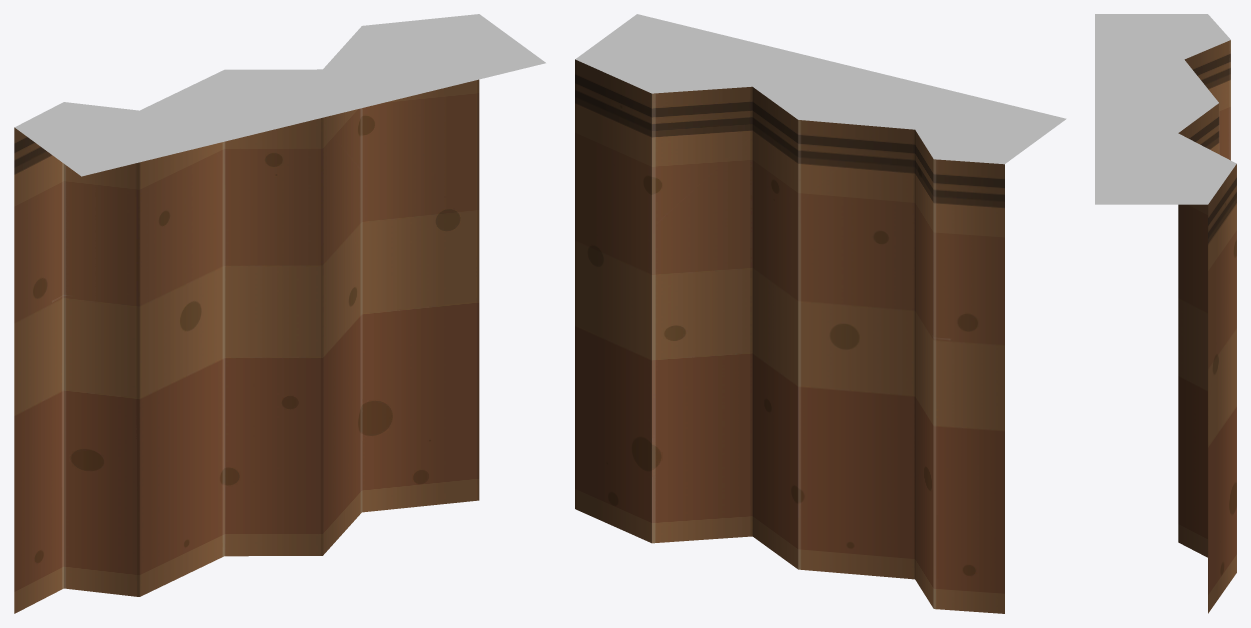
The model's file is Earthquake_Floor_Reverse.fbx.
3 views of the same model, side by side, from view 1: azimuth 30°, elevation 25°; view 2: azimuth 150°, elevation 25°; view 3: azimuth 270°, elevation 25° (orthographic). The views are drawn at different scales.
Visible parts, largest first — view 1: Earthquake_Floor_Reverse; view 2: Earthquake_Floor_Reverse; view 3: Earthquake_Floor_Reverse.
Boxes of the visible parts, x1,y1,x2,y2 form: Earthquake_Floor_Reverse: (14, 14, 545, 613); Earthquake_Floor_Reverse: (575, 14, 1066, 613); Earthquake_Floor_Reverse: (1095, 14, 1236, 613).
Bounding box in the file's own units: 0.5 × 0.5 × 0.157.
